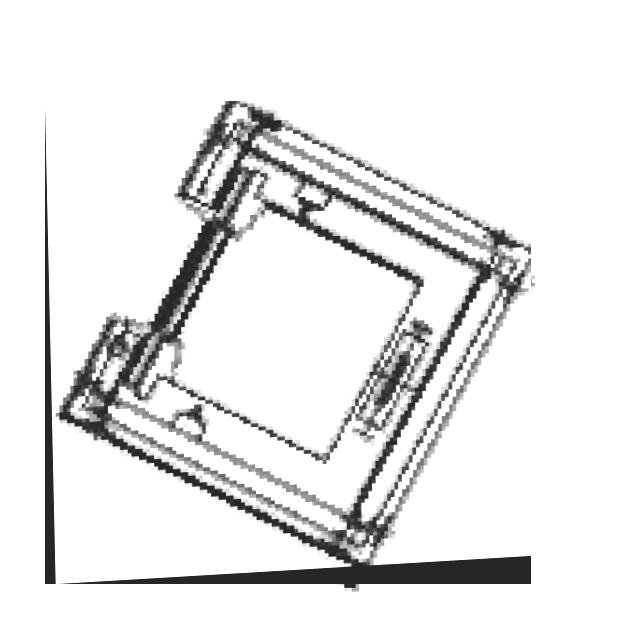lift: (45, 101, 531, 584)
